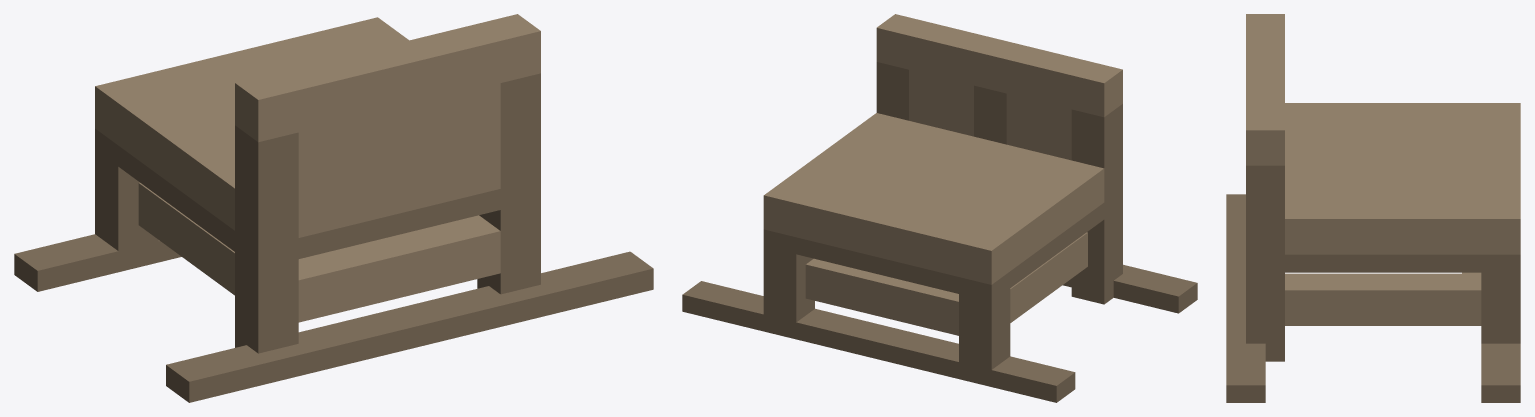
The model's file is mecedora_01.glb.
3 views of the same model, side by side, from view 1: azimuth 30°, elevation 25°; view 2: azimuth 150°, elevation 25°; view 3: azimuth 270°, elevation 25° (orthographic). The views are drawn at different scales.
Visible parts, largest first — view 1: mecedora; view 2: mecedora; view 3: mecedora.
Boxes of the visible parts, x1,y1,x2,y2 form: mecedora: [14, 14, 653, 402]; mecedora: [682, 14, 1197, 402]; mecedora: [1226, 14, 1520, 402].
Size of the model in its own units: 1.64 by 0.9286 by 1.07.
